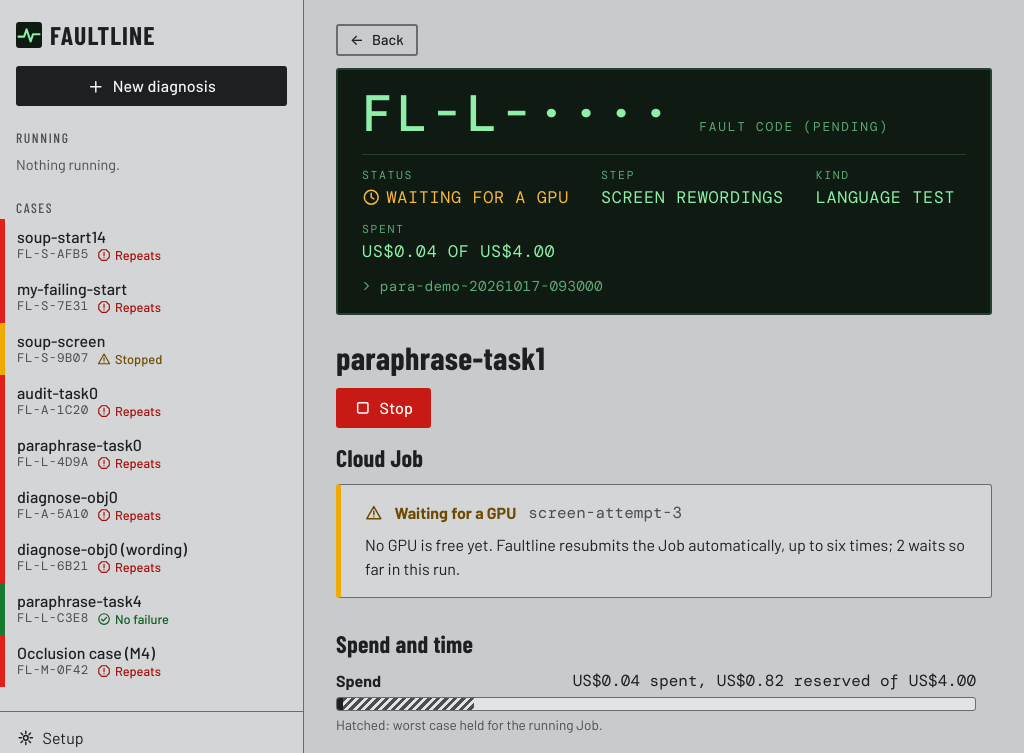
it: a run waiting for a GPU › asks before stopping, in words, and a cancel sends nothing
Click the button "Stop" at {"x": 384, "y": 408}, box [336, 388, 431, 428]
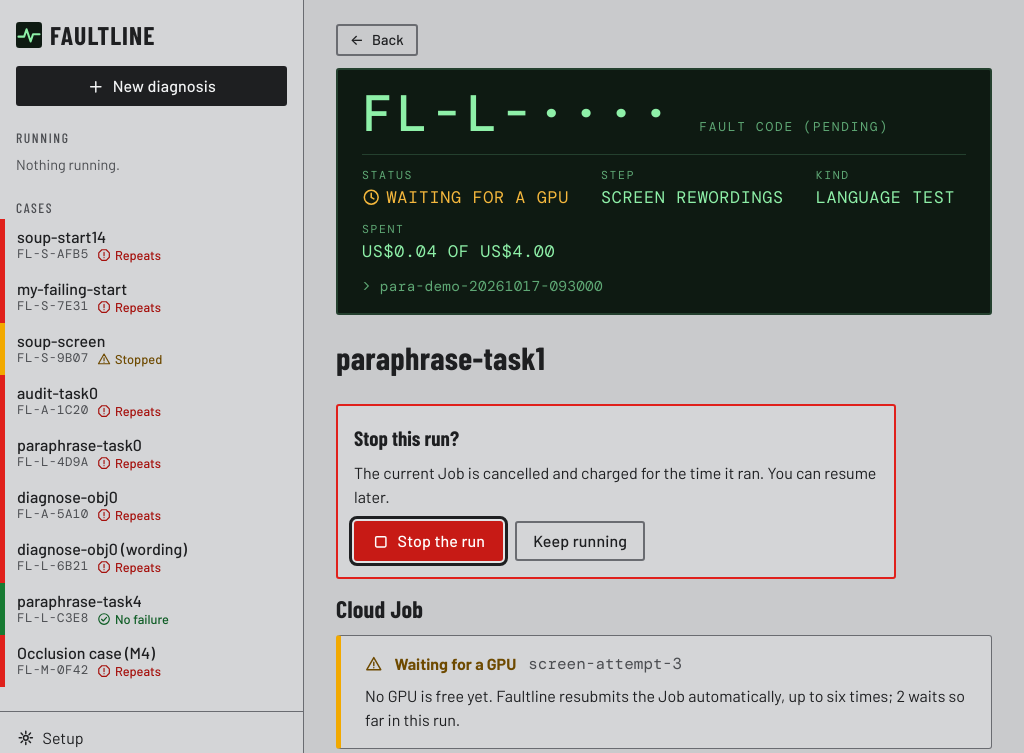
Expected: the dialog "Stop this run?" shows "The current Job is cancelled and charged for the time it ran. You can resume later.", [354, 464, 876, 506]
Click the button "Keep running" at {"x": 580, "y": 542}, box [515, 522, 645, 562]
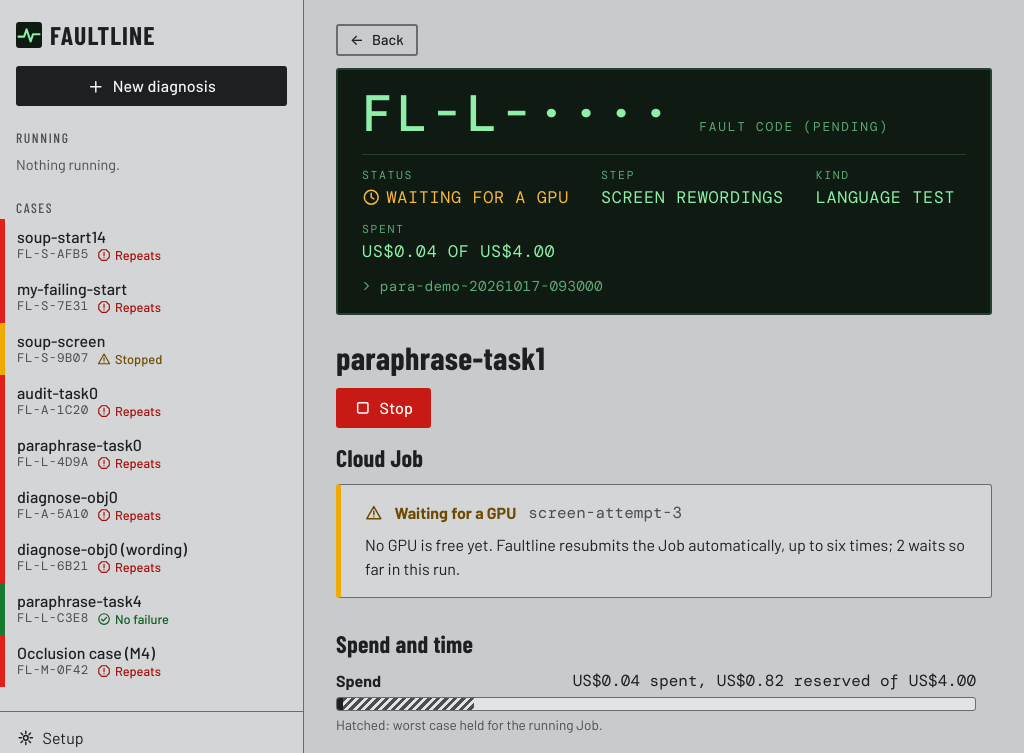
Expected: the dialog is gone
Click the button "Stop" at {"x": 384, "y": 408}, box [336, 388, 431, 428]
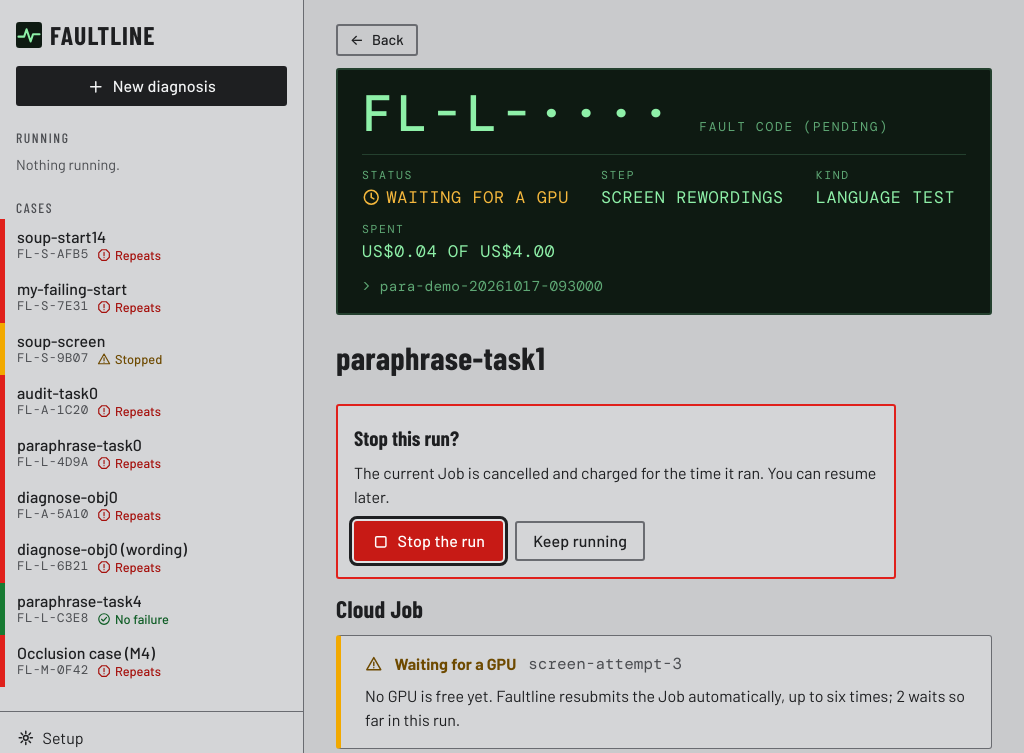
Press Escape
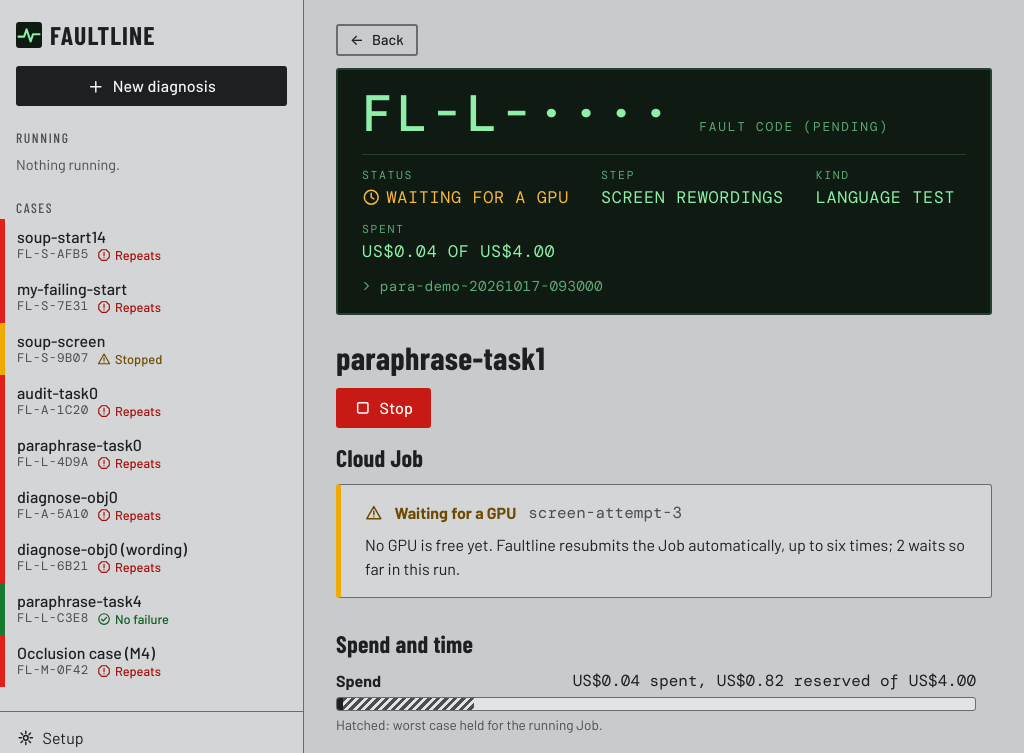
Expected: the dialog is gone
